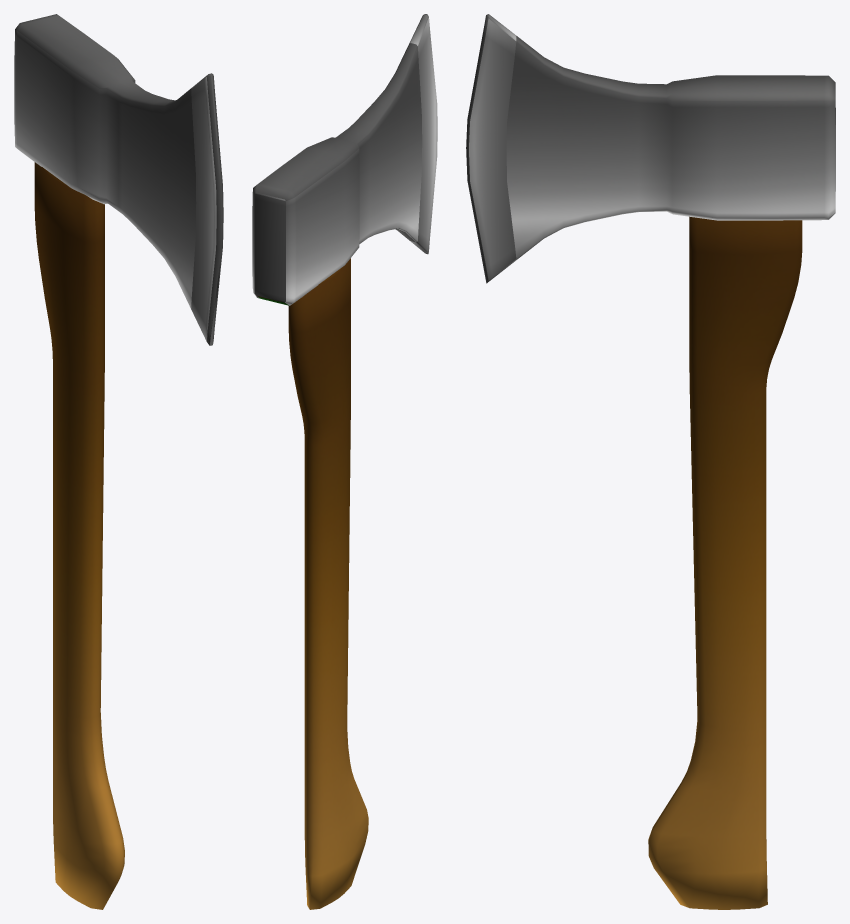
The model's file is AXE.fbx.
3 views of the same model, side by side, from view 1: azimuth 30°, elevation 25°; view 2: azimuth 150°, elevation 25°; view 3: azimuth 270°, elevation 25° (orthographic). The views are drawn at different scales.
Visible parts, largest first — view 1: Cube.001; view 2: Cube.001; view 3: Cube.001.
Part boxes in pixels (left/top/right/bottom): Cube.001: left=14, top=14, right=223, bottom=909; Cube.001: left=252, top=14, right=437, bottom=909; Cube.001: left=466, top=14, right=835, bottom=909.
Size of the model in its own units: 30 by 510 by 191.
